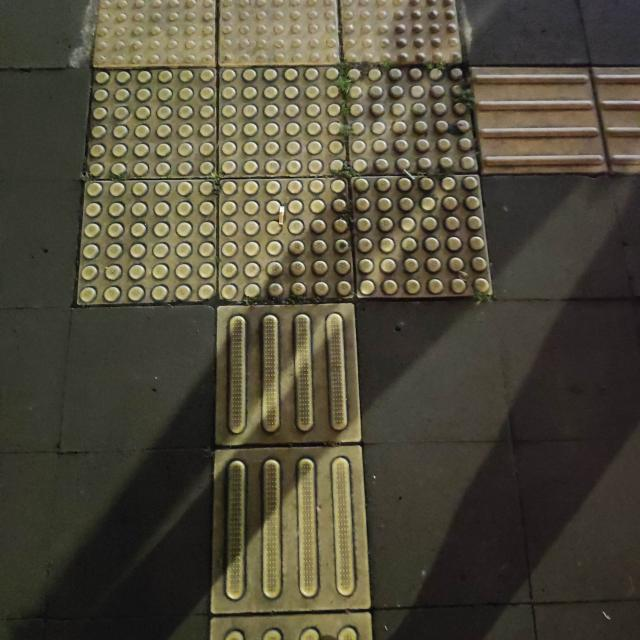kanan: (146, 39, 640, 358)
